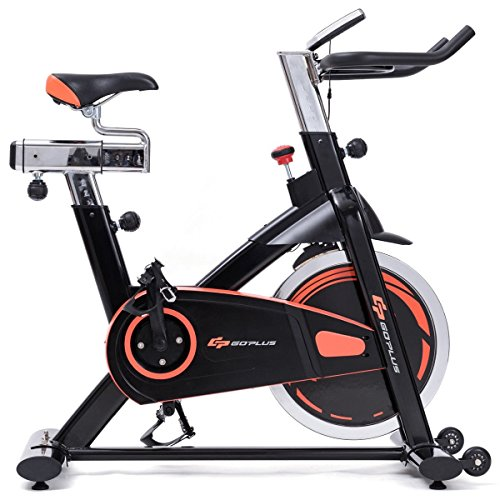gym_bike: (26, 17, 476, 487)
